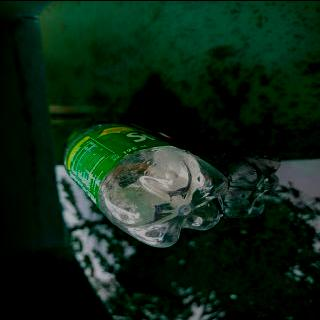bottle: (62, 122, 228, 249)
